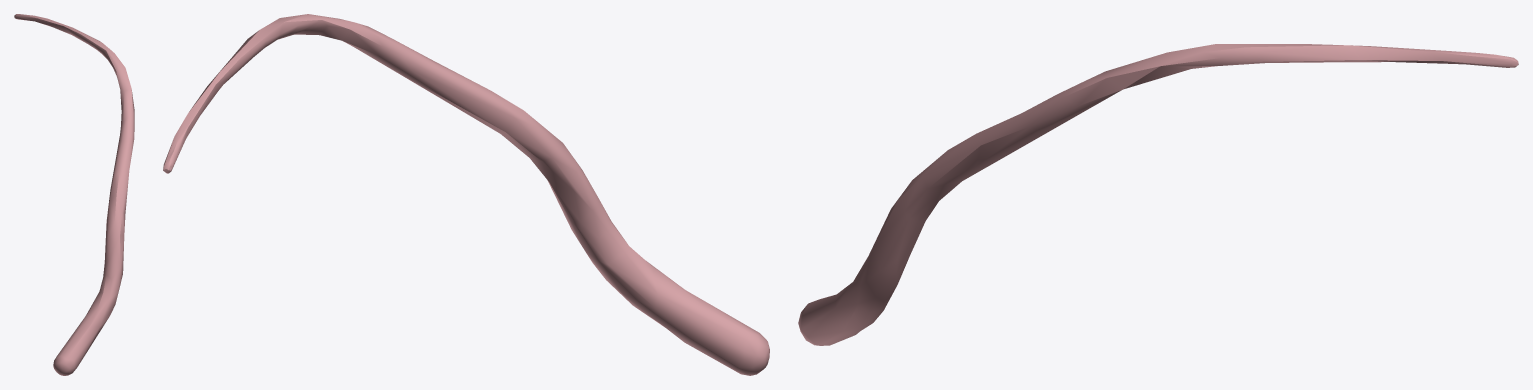
Rendered from fma71889_fj1883.glb.
The picture shows the model from 3 angles, left to right: view 1: azimuth 30°, elevation 25°; view 2: azimuth 150°, elevation 25°; view 3: azimuth 270°, elevation 25°; orthographic projection. The views are drawn at different scales.
Visible parts, largest first — view 1: FMA71889_FJ1883; view 2: FMA71889_FJ1883; view 3: FMA71889_FJ1883.
Boxes of the visible parts, left/top/right/bottom form: FMA71889_FJ1883: left=14, top=14, right=134, bottom=375; FMA71889_FJ1883: left=163, top=14, right=769, bottom=375; FMA71889_FJ1883: left=798, top=44, right=1518, bottom=345.
Size of the model in its own units: 0.0191 by 0.0254 by 0.0379.
